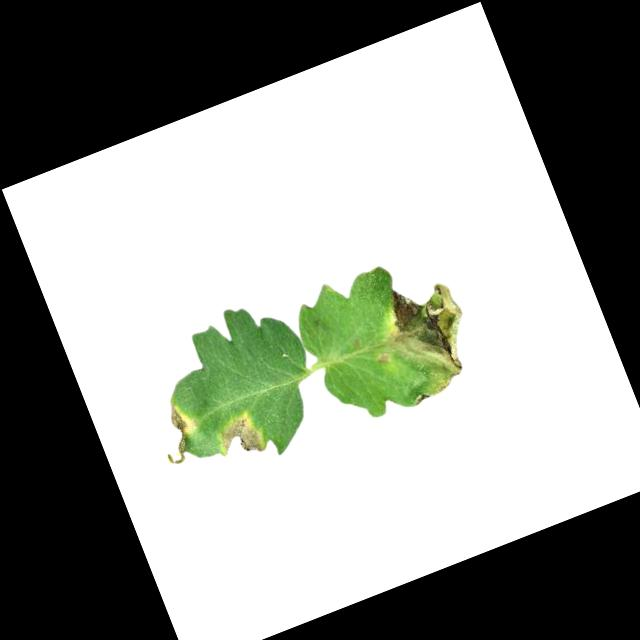Late_blight: (357, 268, 489, 411), (147, 395, 209, 469), (209, 411, 266, 467)
